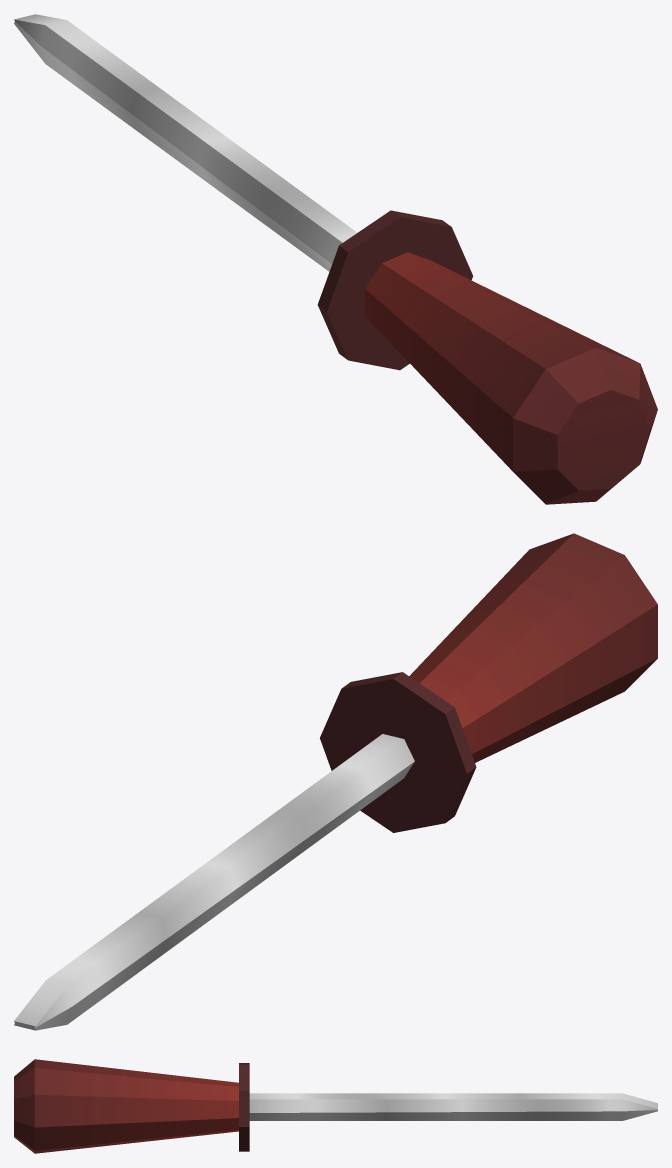
File: destornilladorcontextura.fbx
3 views of the same model, one above another, from view 1: azimuth 30°, elevation 25°; view 2: azimuth 150°, elevation 25°; view 3: azimuth 270°, elevation 25° (orthographic). The views are drawn at different scales.
Parts seen in each view (by area): view 1: pCylinder1; view 2: pCylinder1; view 3: pCylinder1.
Part boxes in pixels (x1,y1,x2,y2): pCylinder1: (14,14,657,504); pCylinder1: (14,533,657,1030); pCylinder1: (14,1059,657,1153).
Size of the model in its own units: 5.65 by 5.63 by 38.21.
1 material, 1 textured.
